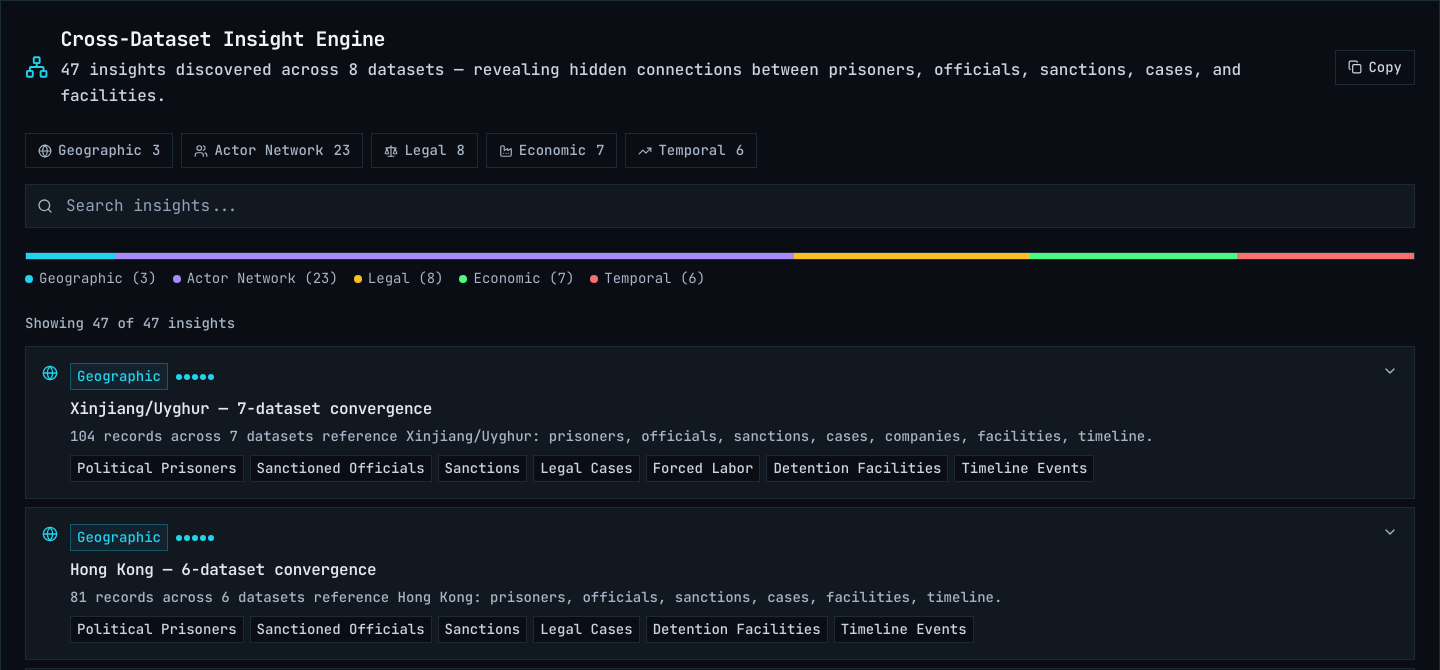
Test case: CrossDatasetInsightEngine › typing in search filters insights
The width and height of the screenshot is (1440, 670).
Type "xyznonexistent123" into the field with placeholder "Search insights..." at (720, 206), box [25,184,1415,228]
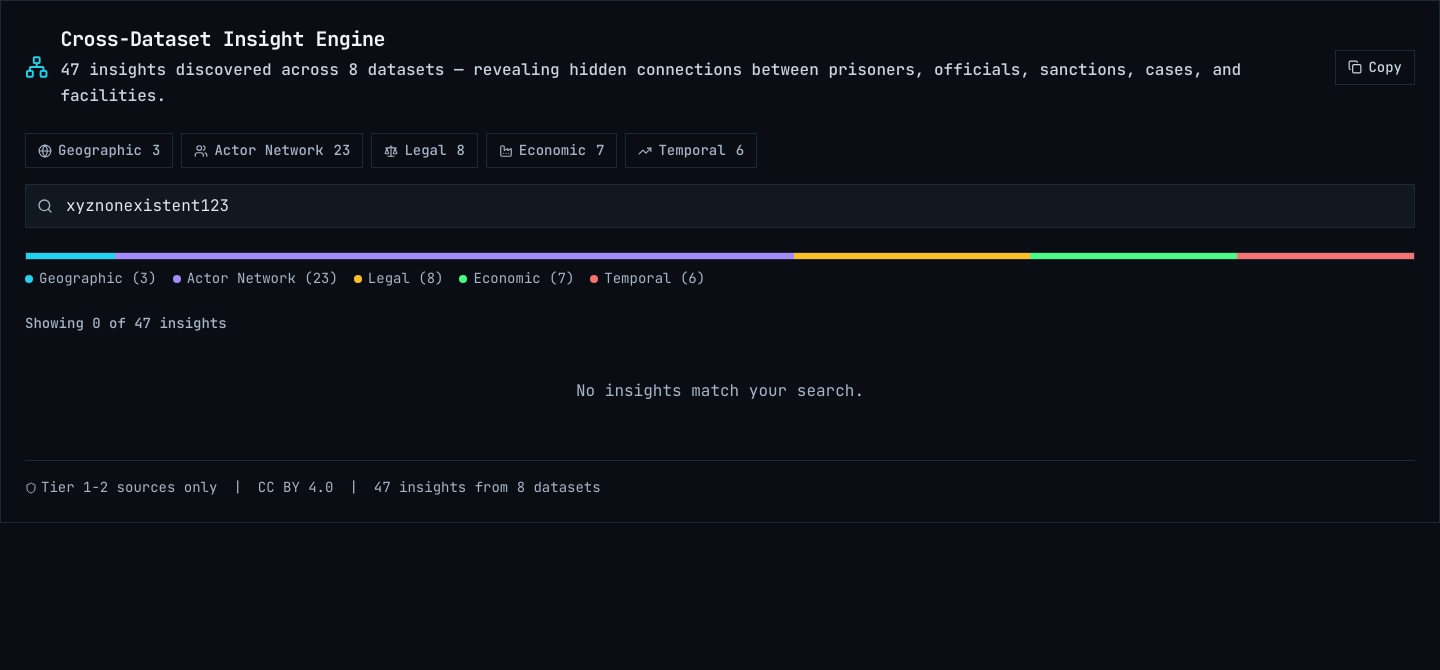
Expected: the text "No insights match your search." is shown, [576,380,864,401]
